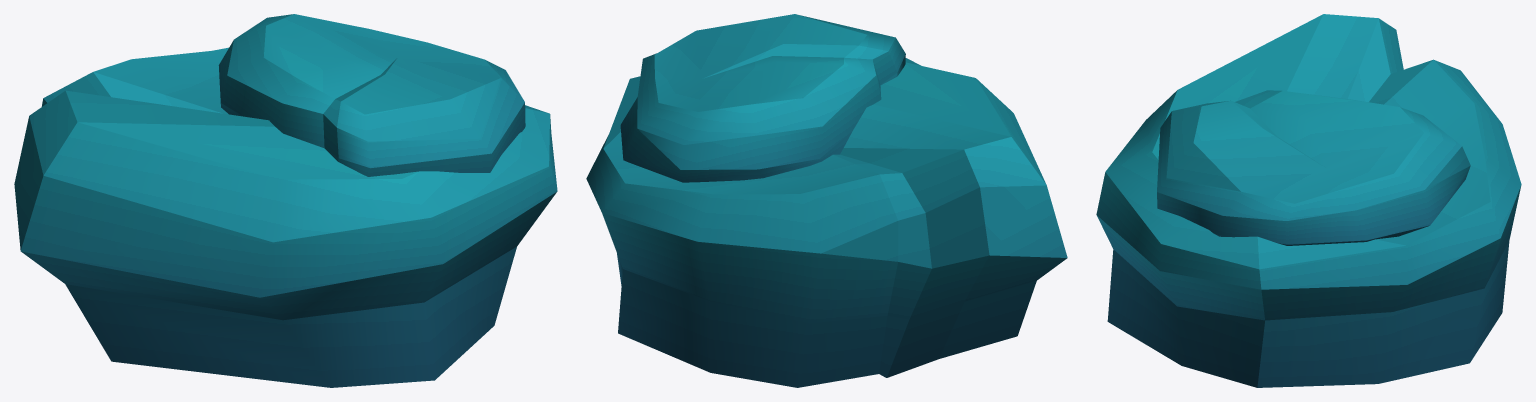
Rendered from RockC.fbx.
3 views of the same model, side by side, from view 1: azimuth 30°, elevation 25°; view 2: azimuth 150°, elevation 25°; view 3: azimuth 270°, elevation 25° (orthographic). The views are drawn at different scales.
Parts seen in each view (by area): view 1: RockC; view 2: RockC; view 3: RockC.
Part boxes in pixels (x1,y1,x2,y2): RockC: (14, 14, 557, 387); RockC: (586, 14, 1067, 387); RockC: (1096, 14, 1521, 387).
Bounding box in the file's own units: 171 × 87.02 × 141.
1 material, 1 textured.
